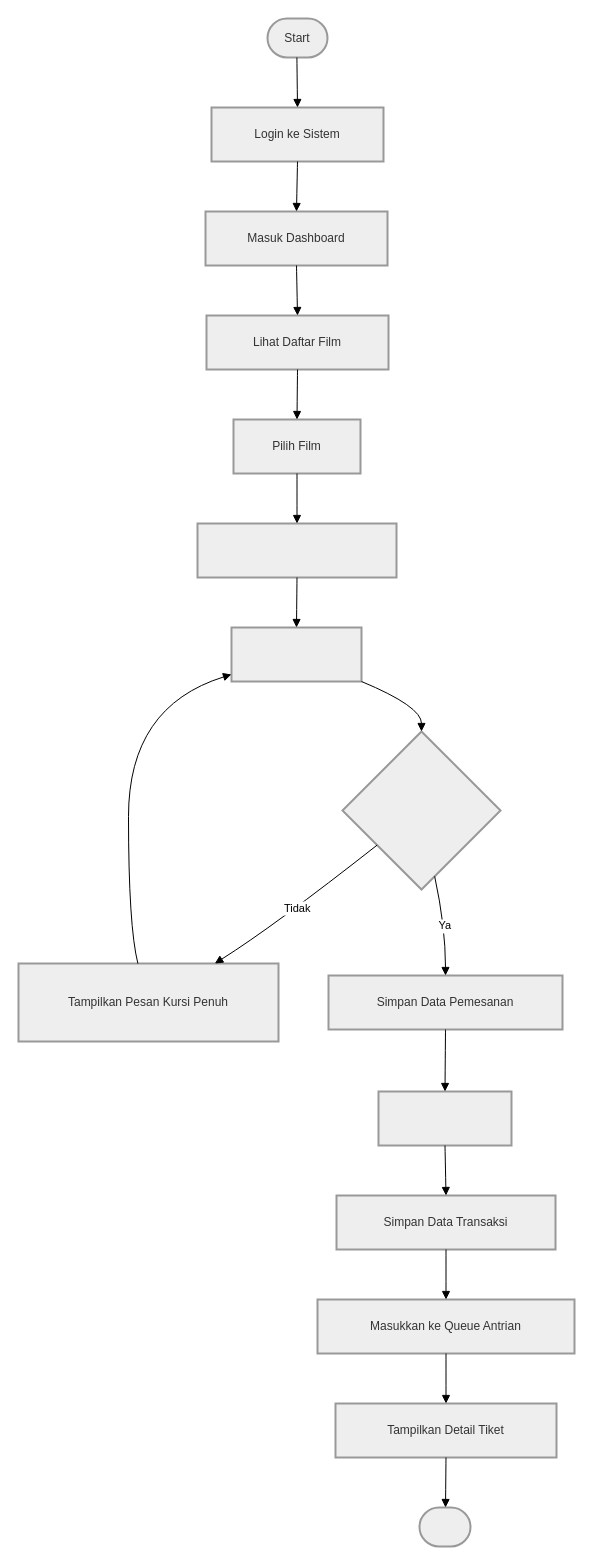
The diagram is 592 pixels wide and 1564 high, and some of its shapes have lost their labels. Here are the shapes that lost their labels. From the top down, the centre of each, then its label:
the point at 296,550: Pilih Jadwal Tayang
the point at 296,654: Pilih Kursi
the point at 421,810: Kursi Tersedia?
the point at 444,1118: Buat Tiket
the point at 444,1526: End
